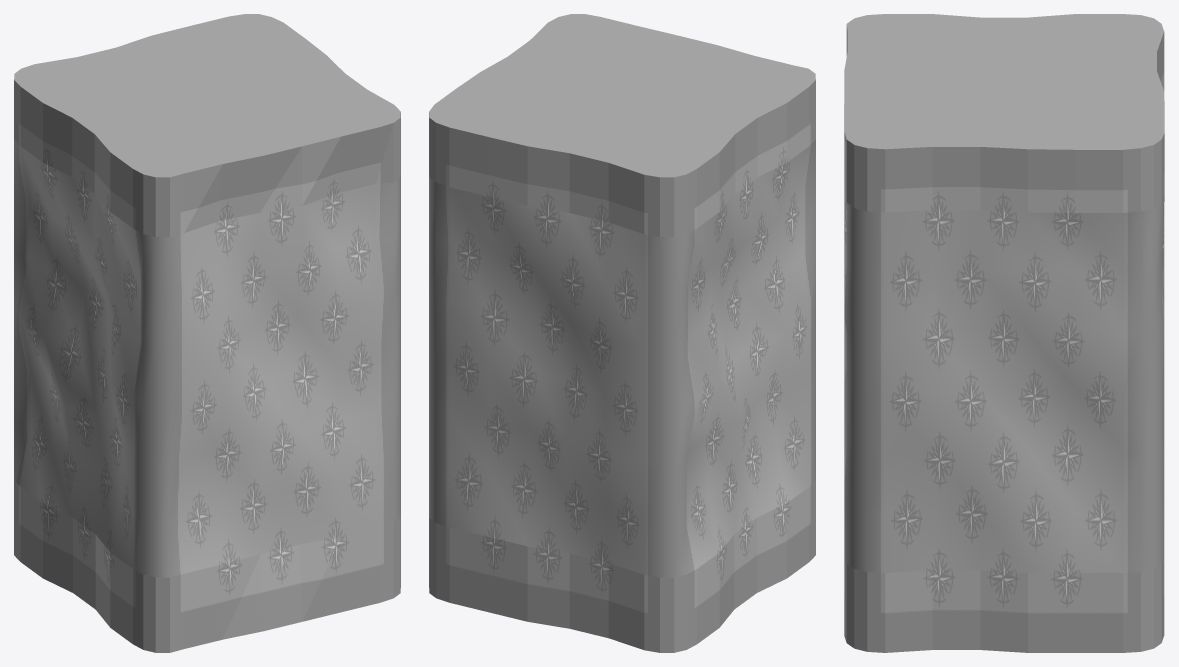
File: Pillar.FBX
3 renders of one model, left to right at view 1: azimuth 30°, elevation 25°; view 2: azimuth 150°, elevation 25°; view 3: azimuth 270°, elevation 25°, orthographic. The views are drawn at different scales.
Visible parts, largest first — view 1: Box001; view 2: Box001; view 3: Box001.
Boxes of the visible parts, x1,y1,x2,y2 form: Box001: [14, 14, 400, 652]; Box001: [429, 14, 815, 652]; Box001: [844, 14, 1164, 652].
Size of the model in its own units: 39.54 by 68.37 by 39.44.
1 material, 1 textured.
